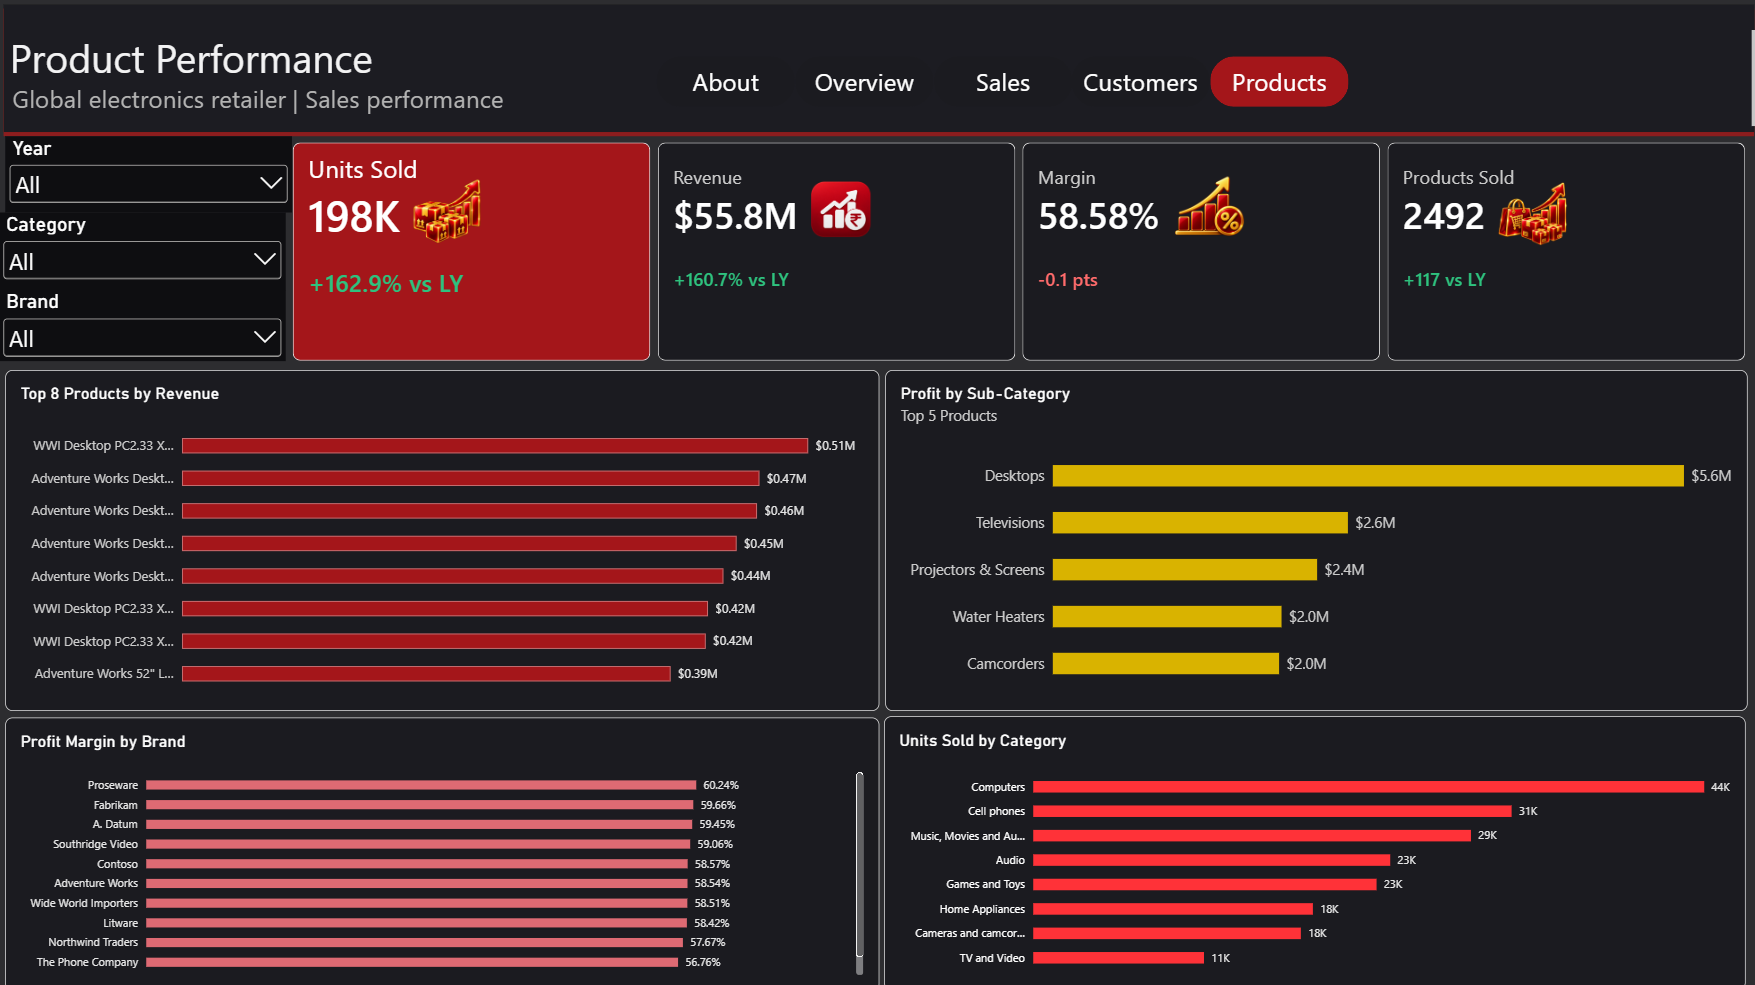

What the dashboard file says about the page in this screenshot:
{"tool":"powerbi","page":{"name":"Products","canvas":[1920,1080],"ordinal":4},"visuals":[{"type":"shape","box":[0,0,1919.6,149.1],"z":0},{"type":"textbox","box":[0,33.1,1919.6,116],"z":1000},{"type":"actionButton","box":[717.8,60.7,150.9,55.2],"z":2000},{"type":"actionButton","box":[868.7,60.7,150.9,55.2],"z":3000},{"type":"actionButton","box":[1019.6,60.7,150.9,55.2],"z":4000},{"type":"actionButton","box":[1170.6,60.7,150.9,55.2],"z":5000},{"type":"actionButton","box":[1321.5,60.7,150.9,55.2],"z":6000},{"type":"slicer","fields":{"Values":["Products.Category"]},"box":[0,231.9,312.9,84.7],"z":8000},{"type":"slicer","title":"Year","fields":{"Values":["Dim_Date.Year"]},"box":[7.4,149.1,312.9,82.8],"z":9000},{"type":"slicer","fields":{"Values":["Products.Brand"]},"box":[0,316.6,312.9,77.3],"z":10000},{"type":"cardVisual","fields":{"Data":["Sales.Total Quantity","Sales.Total Revenue","Sales.Profit Margin %","Sales.Products Sold"]},"box":[321,156,1586,238],"z":11000},{"type":"image","box":[1269.9,189.6,99.4,73.6],"z":12000},{"type":"image","box":[868.7,191,99.4,73.6],"z":13000},{"type":"image","box":[438,195.1,99.4,73.6],"z":14000},{"type":"image","box":[1623.3,197.4,99.4,73.6],"z":15000},{"type":"barChart","title":"Top 8 Products by Revenue","fields":{"Category":["Products.Product Name"],"Y":["Sales.Total Revenue"]},"box":[7.4,403.1,953.4,371.8],"z":16000},{"type":"barChart","title":"Profit by Sub-Category","fields":{"Category":["Products.Subcategory"],"Y":["Sales.Total Profit"]},"box":[966.3,403.1,940.5,371.8],"z":17000},{"type":"barChart","title":"Profit Margin by Brand","fields":{"Category":["Products.Brand"],"Y":["Sales.Profit Margin %"]},"box":[7.4,782.2,953.4,298.2],"z":18000},{"type":"barChart","title":"Units Sold by Category","fields":{"Category":["Products.Category"],"Y":["Sales.Total Quantity"]},"box":[966,782,940,298],"z":19000}]}

Visuals, with their boxes in screenshot pixels (x1, y1, x2, y2), scaled from the page's 1920x1080 canvas onto the 1755x985 screenshot:
shape: box=[0, 0, 1754, 136]
textbox: box=[0, 30, 1754, 136]
actionButton: box=[656, 55, 794, 106]
actionButton: box=[794, 55, 932, 106]
actionButton: box=[932, 55, 1070, 106]
actionButton: box=[1070, 55, 1208, 106]
actionButton: box=[1208, 55, 1346, 106]
slicer - Products.Category: box=[0, 212, 286, 289]
"Year" slicer: box=[7, 136, 293, 212]
slicer - Products.Brand: box=[0, 289, 286, 359]
cardVisual - Sales.Total Quantity x Sales.Total Revenue: box=[293, 142, 1743, 359]
image: box=[1161, 173, 1252, 240]
image: box=[794, 174, 885, 241]
image: box=[400, 178, 491, 245]
image: box=[1484, 180, 1575, 247]
"Top 8 Products by Revenue" barChart: box=[7, 368, 878, 707]
"Profit by Sub-Category" barChart: box=[883, 368, 1743, 707]
"Profit Margin by Brand" barChart: box=[7, 713, 878, 984]
"Units Sold by Category" barChart: box=[883, 713, 1742, 984]
